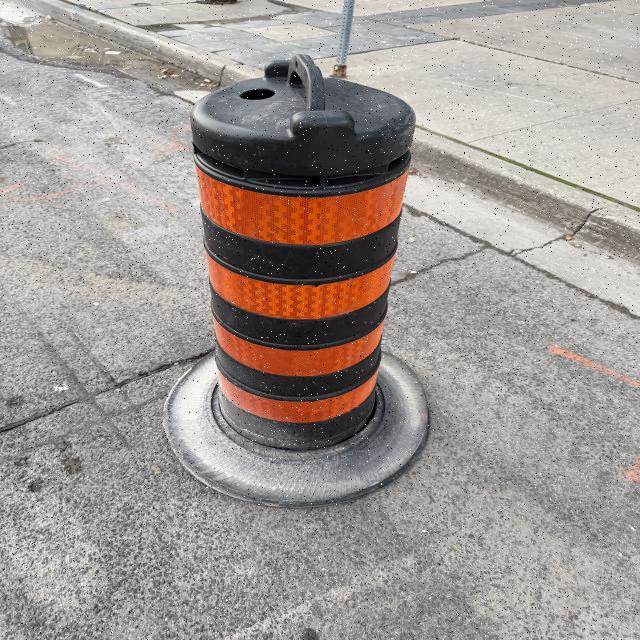Teraffic Barrel: (165, 55, 427, 506)
